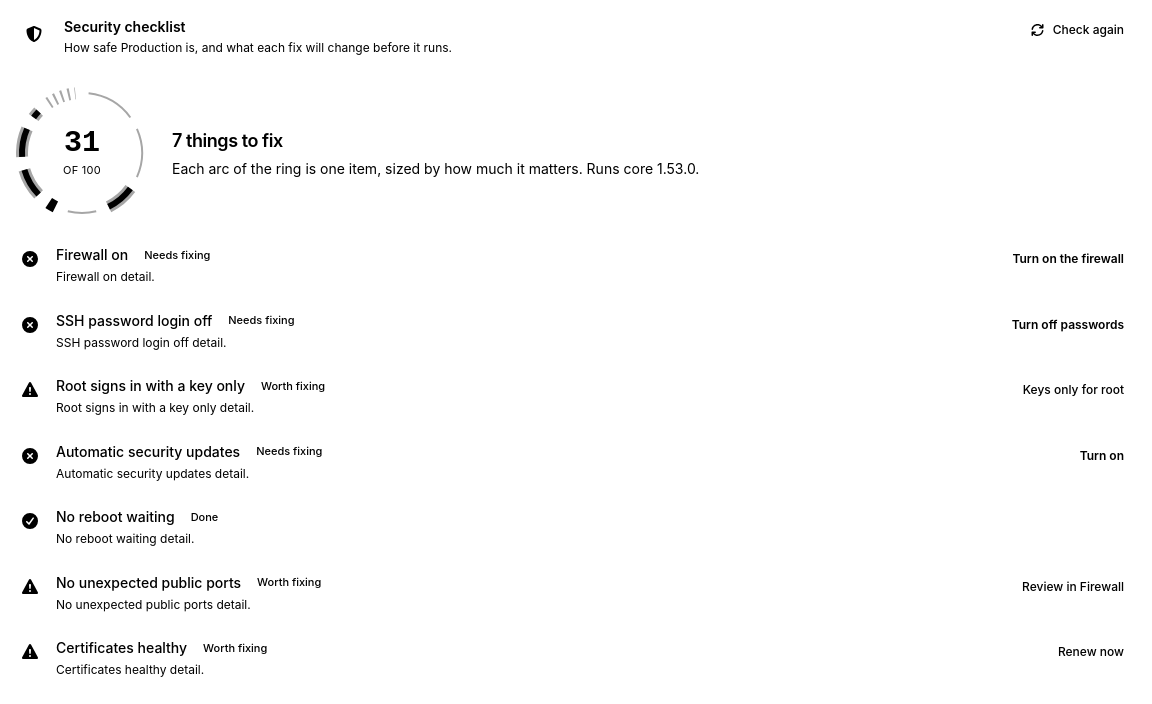
ChecklistCard › keeps Apply off when key login is not proven
Click the button "Turn off passwords".
click(1068, 324)  # box [1000,310,1136,338]
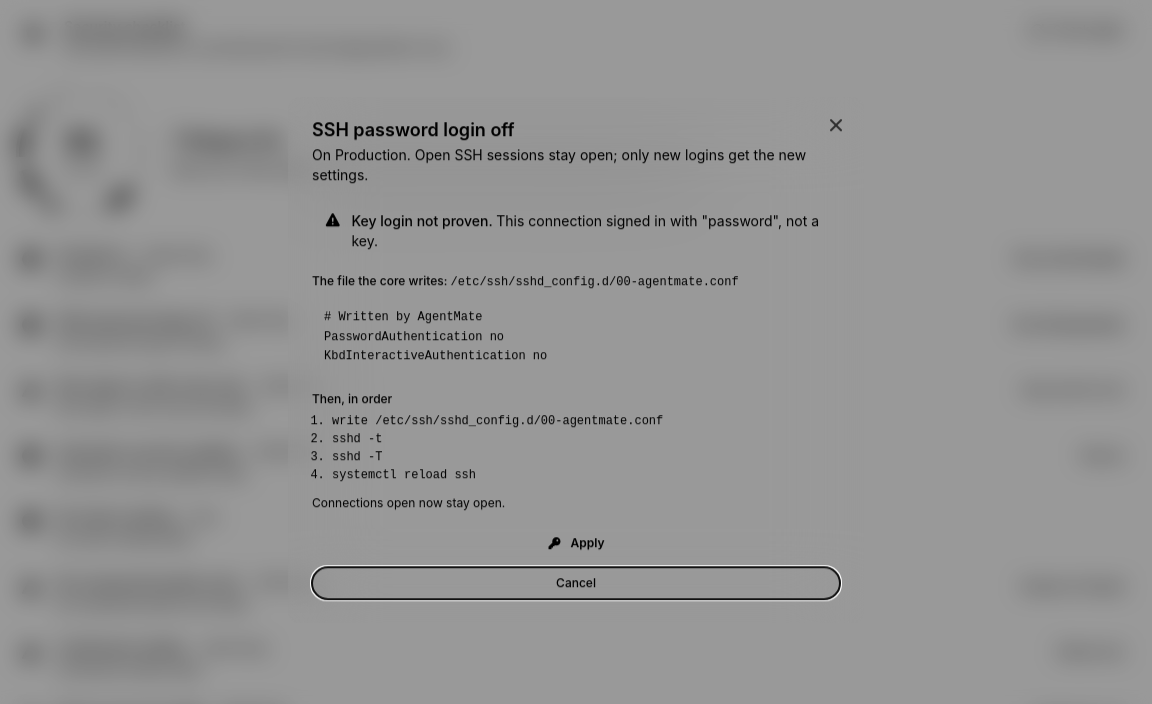
expect the text "Key login not proven." is shown: met, box [352,212,496,229]
expect the button "Apply" is disabled: met, box [312,527,840,559]
